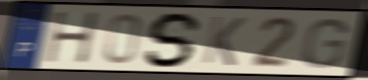0: (102, 12, 143, 65)
2: (250, 15, 297, 69)
G: (299, 17, 351, 71)
H: (43, 10, 101, 65)
K: (200, 14, 248, 69)
S: (142, 10, 205, 69)
